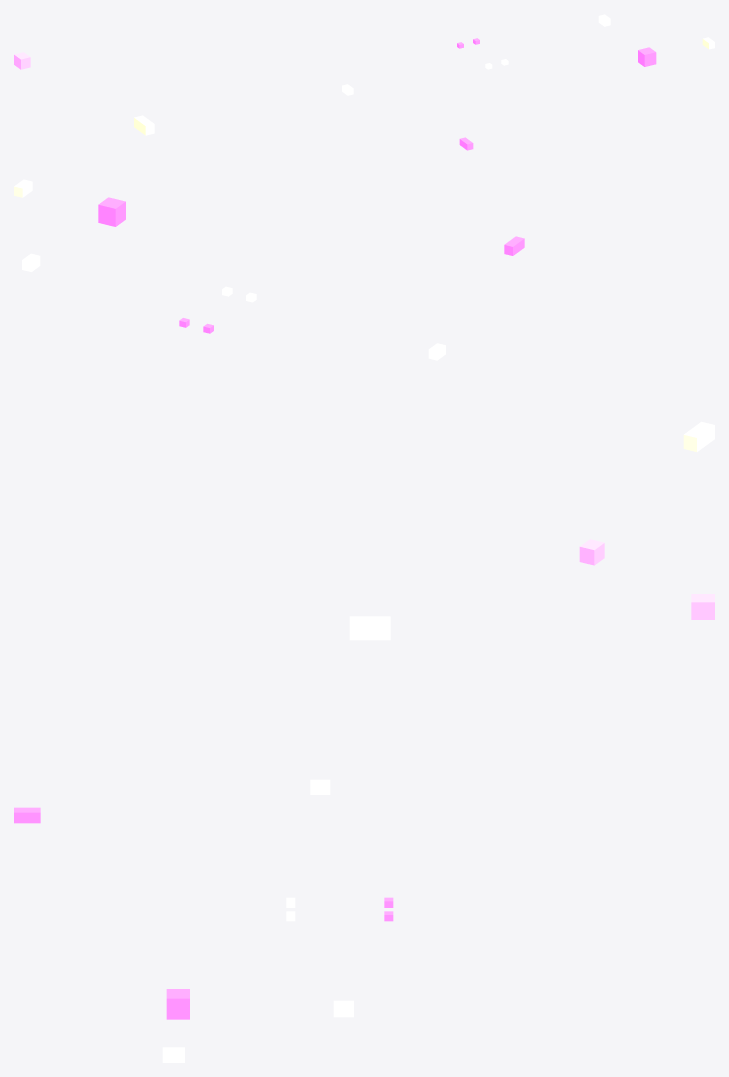
File: citylight.glb
3 renders of one model, top to bottom at view 1: azimuth 30°, elevation 25°; view 2: azimuth 150°, elevation 25°; view 3: azimuth 270°, elevation 25°, orthographic. The views are drawn at different scales.
Parts seen in each view (by area): view 1: citylight; view 2: citylight; view 3: citylight.
Boxes of the visible parts, <box> form: citylight: <box>14,14,714,150</box>; citylight: <box>14,179,714,565</box>; citylight: <box>14,594,714,1062</box>.
Bounding box in the file's own units: 12.07 × 0.2588 × 7.87.
